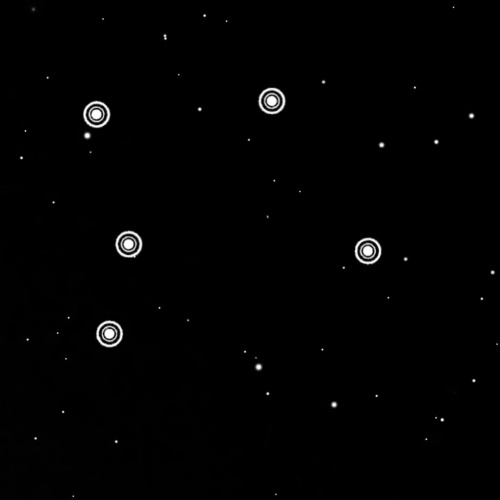libra: (73, 81, 385, 353)
